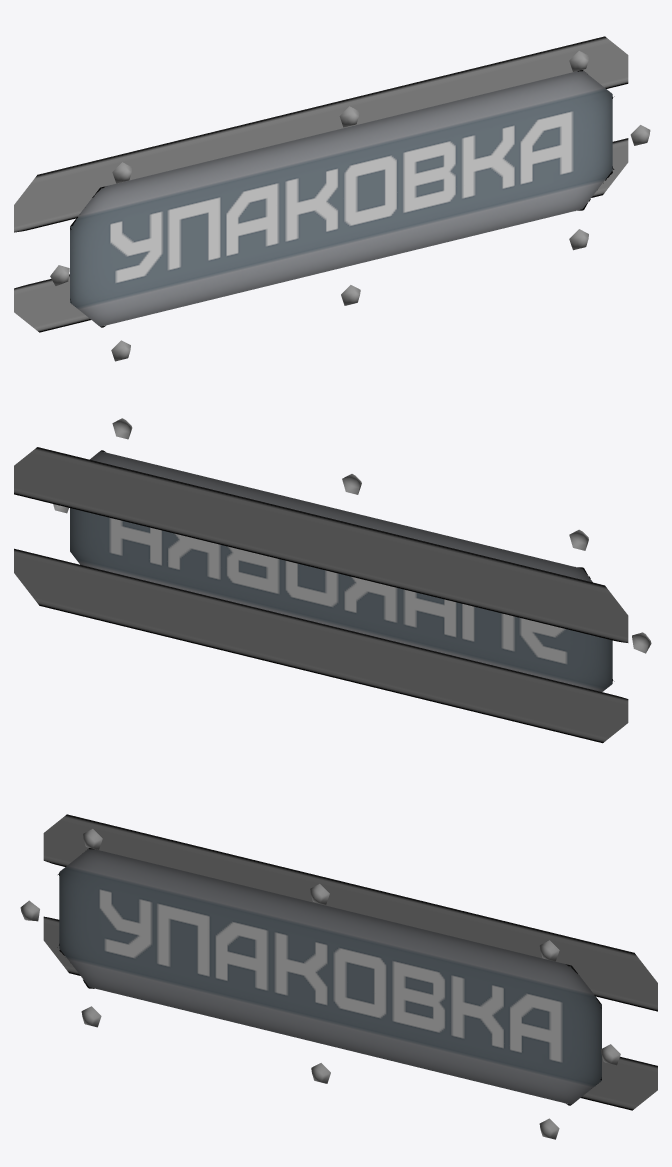
Rendered from obj_decor_sign_packaging.fbx.
3 renders of one model, top to bottom at view 1: azimuth 30°, elevation 25°; view 2: azimuth 150°, elevation 25°; view 3: azimuth 330°, elevation 25°, orthographic.
Parts seen in each view (by area): view 1: obj_decor_sign_packaging; view 2: obj_decor_sign_packaging; view 3: obj_decor_sign_packaging.
Boxes of the visible parts, box(x1,y1,x2,y2) form: obj_decor_sign_packaging: box(14, 36, 650, 361); obj_decor_sign_packaging: box(14, 418, 651, 743); obj_decor_sign_packaging: box(20, 814, 657, 1139).
Size of the model in its own units: 6 by 2 by 0.5823.
